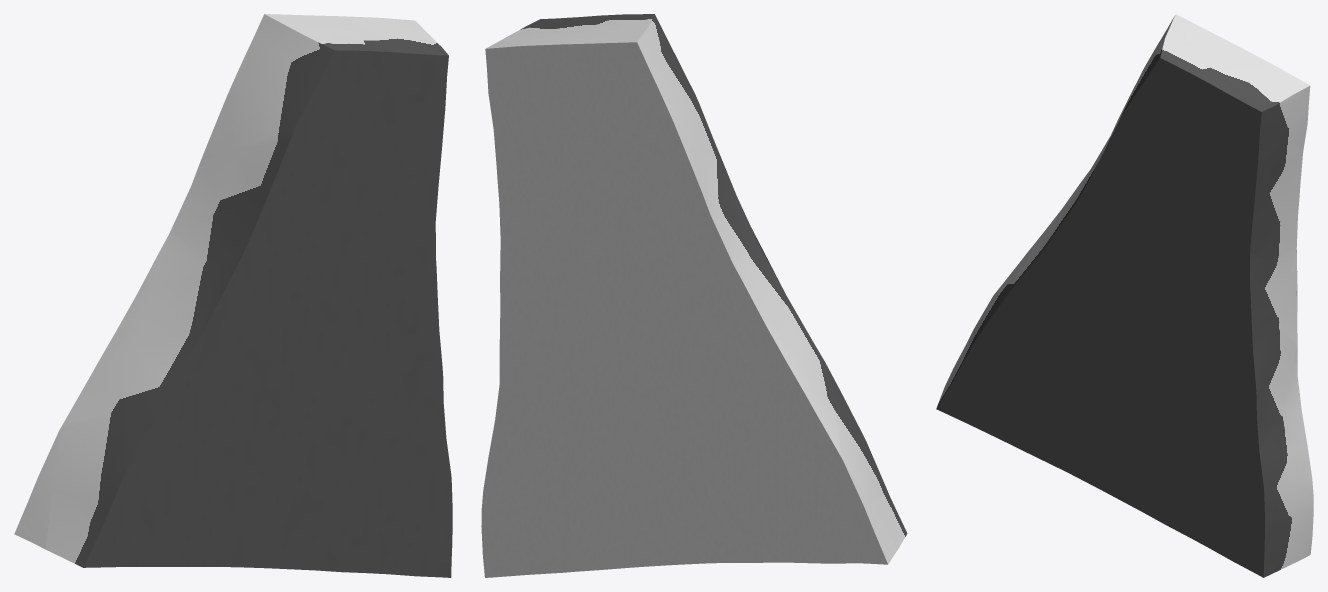
Rendered from Mirror_Eclat_44.fbx.
The picture shows the model from 3 angles, left to right: view 1: azimuth 30°, elevation 25°; view 2: azimuth 150°, elevation 25°; view 3: azimuth 330°, elevation 25°; orthographic projection. The views are drawn at different scales.
Visible parts, largest first — view 1: Mirror_Eclat_44; view 2: Mirror_Eclat_44; view 3: Mirror_Eclat_44.
Part boxes in pixels (x1,y1,x2,y2): Mirror_Eclat_44: (14, 14, 452, 577); Mirror_Eclat_44: (481, 14, 907, 577); Mirror_Eclat_44: (936, 14, 1313, 577).
Size of the model in its own units: 0.279 by 0.3754 by 0.0526.
Materials: 1 (1 with a texture image).
